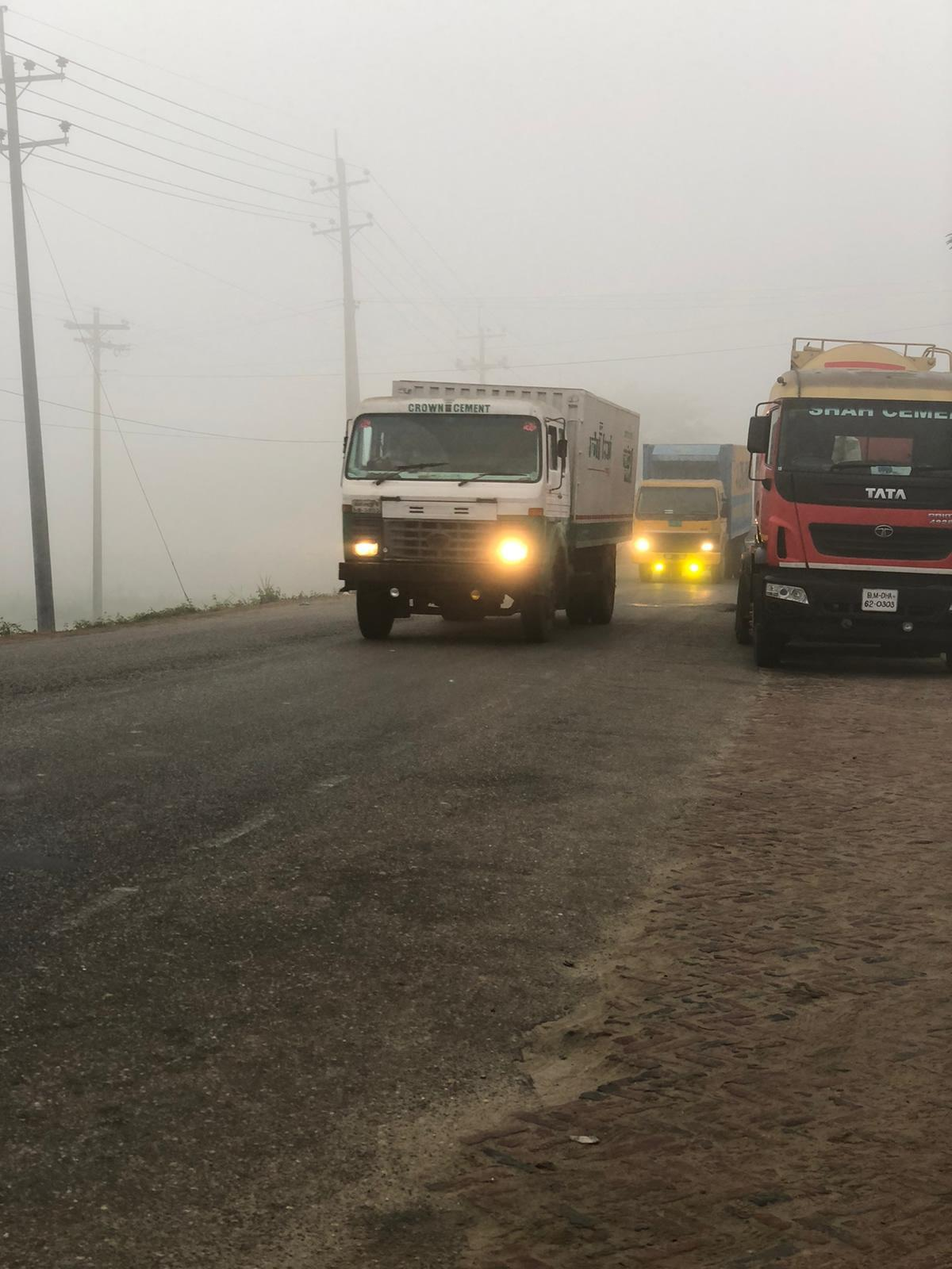Truck: (324, 345, 645, 642), (728, 329, 952, 682), (633, 434, 750, 587)
